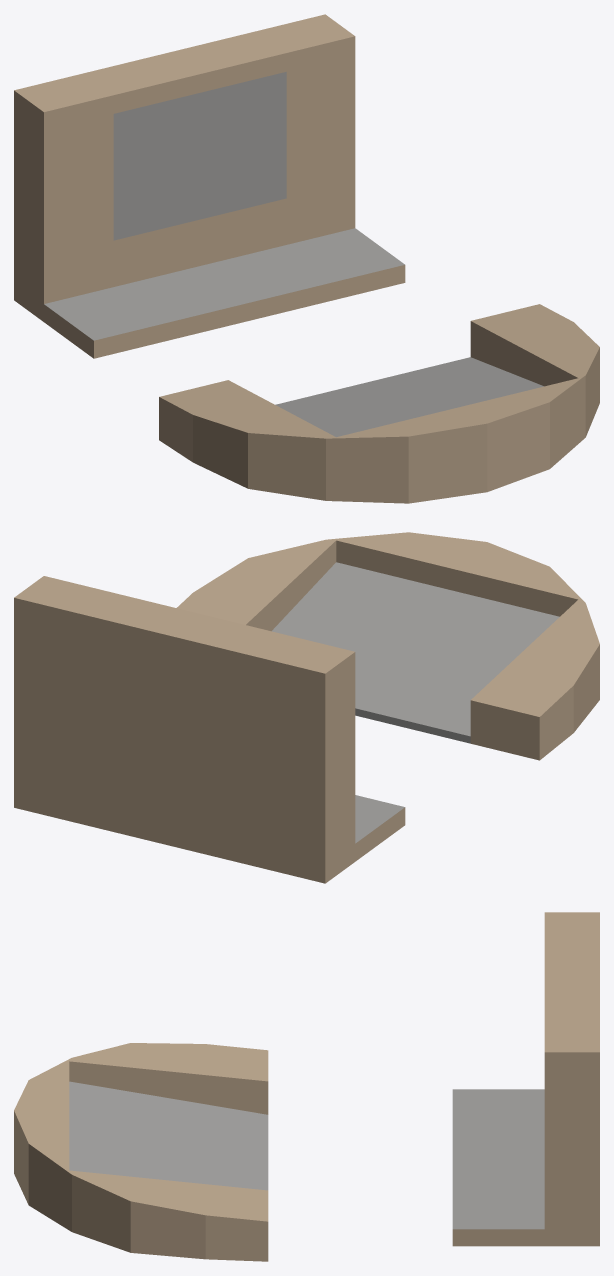
Rendered from amphitheaterlod.glb.
3 renders of one model, top to bottom at view 1: azimuth 30°, elevation 25°; view 2: azimuth 150°, elevation 25°; view 3: azimuth 270°, elevation 25°, orthographic. The views are drawn at different scales.
Visible parts, largest first — view 1: amphitheaterlod; view 2: amphitheaterlod; view 3: amphitheaterlod.
Boxes of the visible parts, x1,y1,x2,y2 form: amphitheaterlod: (14,14,599,503); amphitheaterlod: (14,532,599,883); amphitheaterlod: (14,912,599,1261).
Bounding box in the file's own units: 11 × 5.8 × 15.9.
Materials: 1 (1 with a texture image).
